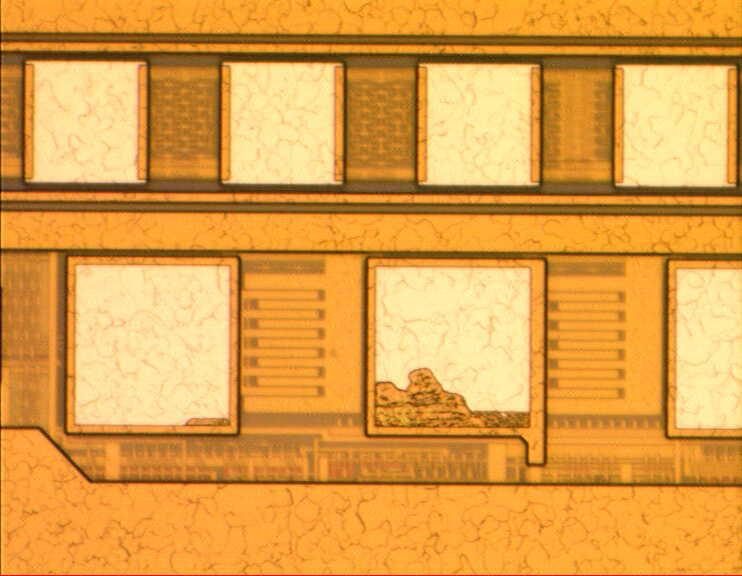BLOCK ETCH: (181, 364, 536, 440)
